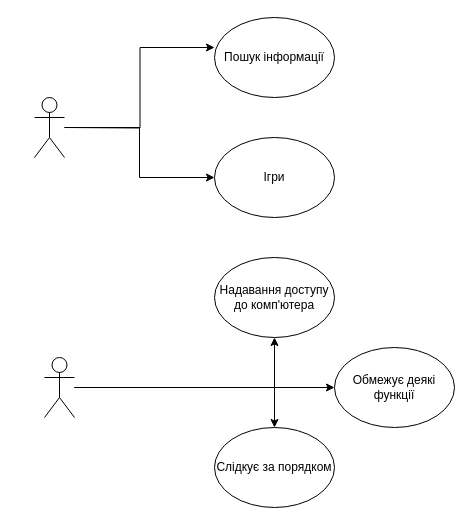
Some shapes in this 472 by 525 pixel diagram are drawn without their labels. Each missing label, with the centre of its shape:
"Адміністратор" belongs at point (59, 387).
"Користувач" belongs at point (49, 127).
